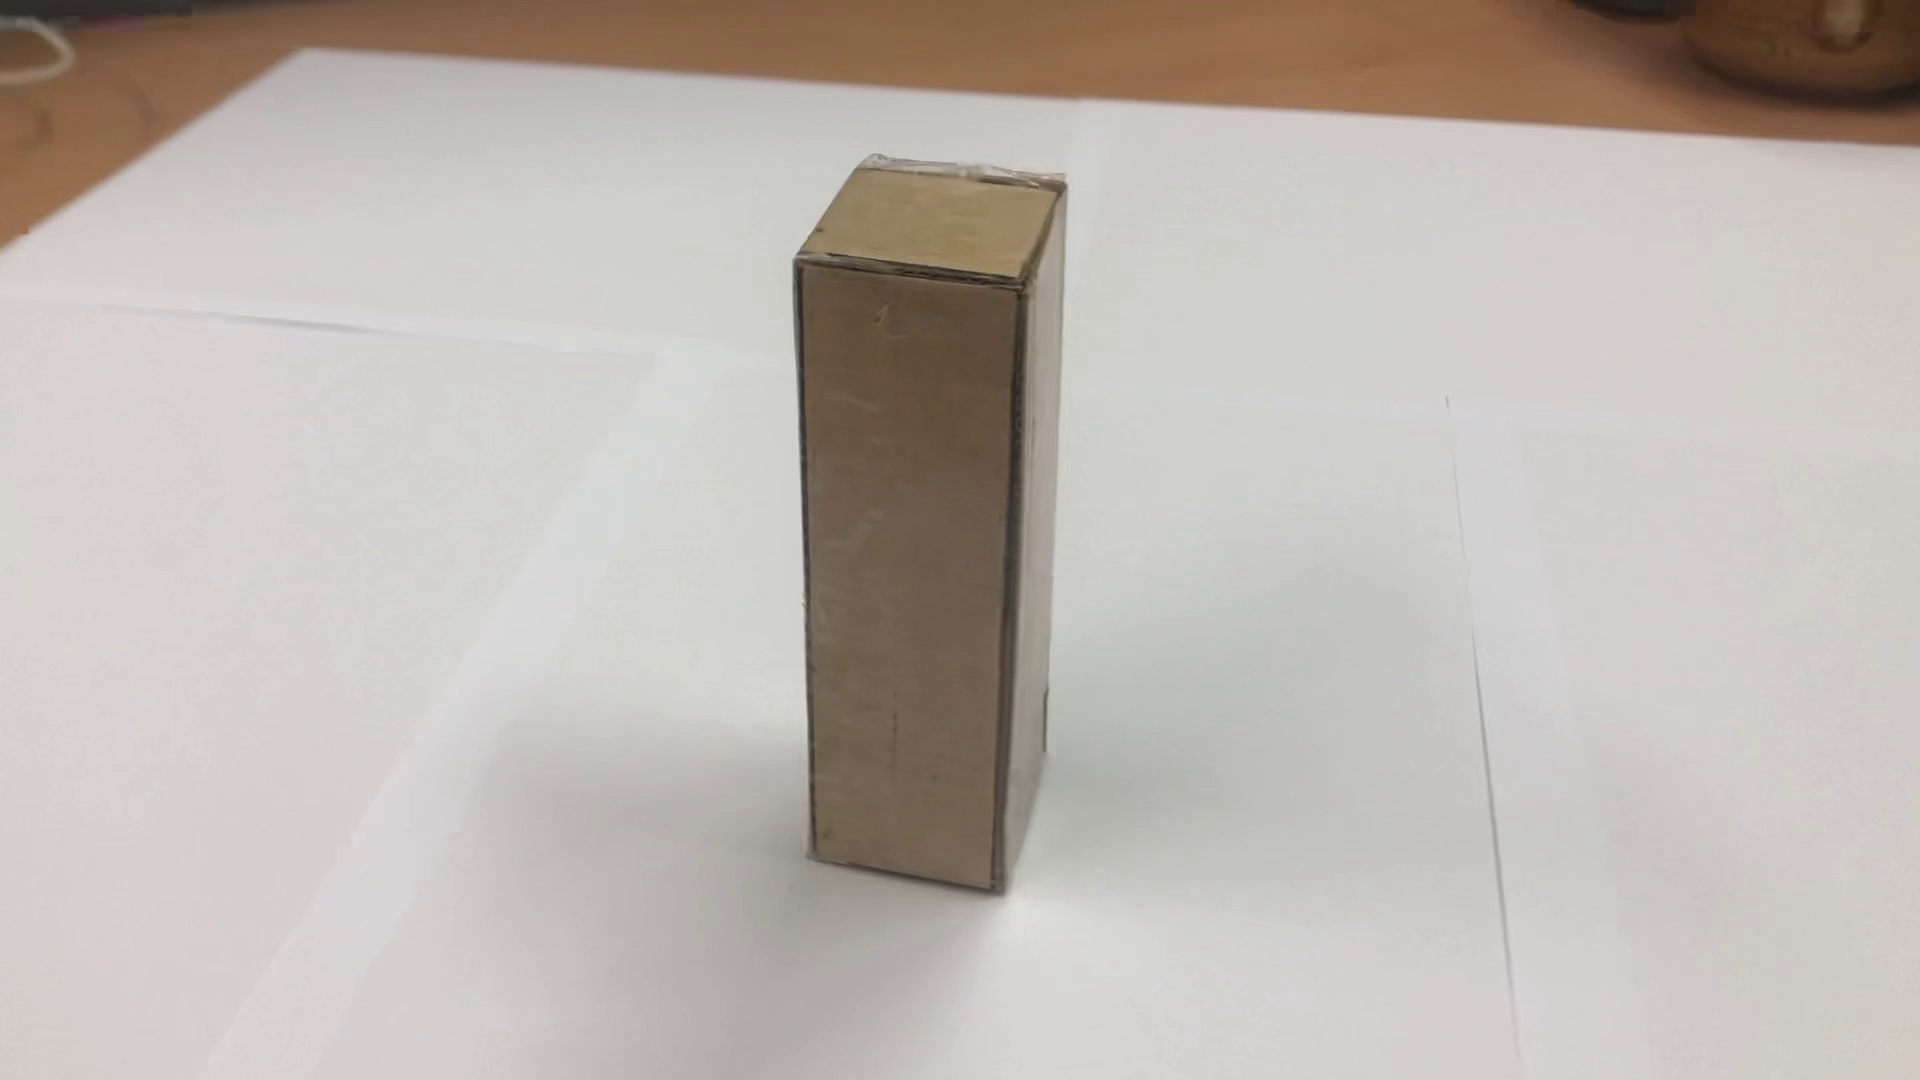box: (760, 135, 1093, 927)
